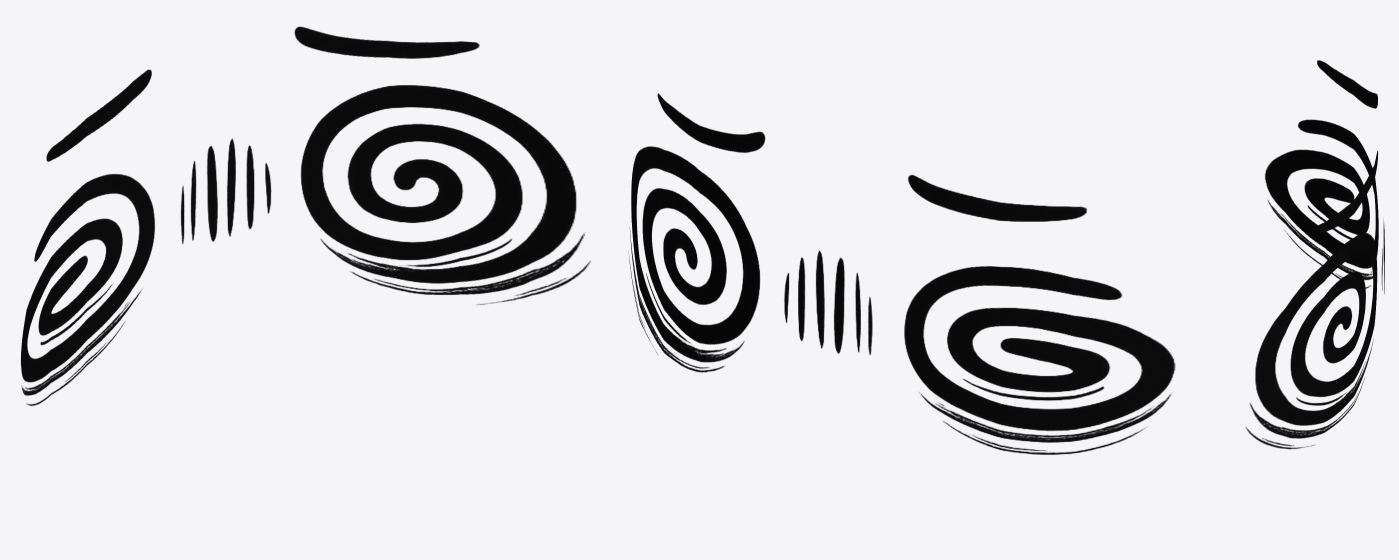
Rendered from 04-Dizzy-Face-Recolorable-eyes.glb.
3 renders of one model, left to right at view 1: azimuth 30°, elevation 25°; view 2: azimuth 150°, elevation 25°; view 3: azimuth 270°, elevation 25°, orthographic. The views are drawn at different scales.
Parts seen in each view (by area): view 1: 04-Dizzy-Face-Recolorable-eyes; view 2: 04-Dizzy-Face-Recolorable-eyes; view 3: 04-Dizzy-Face-Recolorable-eyes.
Part boxes in pixels (x1,y1,x2,y2): 04-Dizzy-Face-Recolorable-eyes: (21,26,590,405); 04-Dizzy-Face-Recolorable-eyes: (628,93,1175,454); 04-Dizzy-Face-Recolorable-eyes: (1245,60,1384,449).
Size of the model in its own units: 0.9849 by 0.6012 by 0.2541.
1 material, 1 textured.
